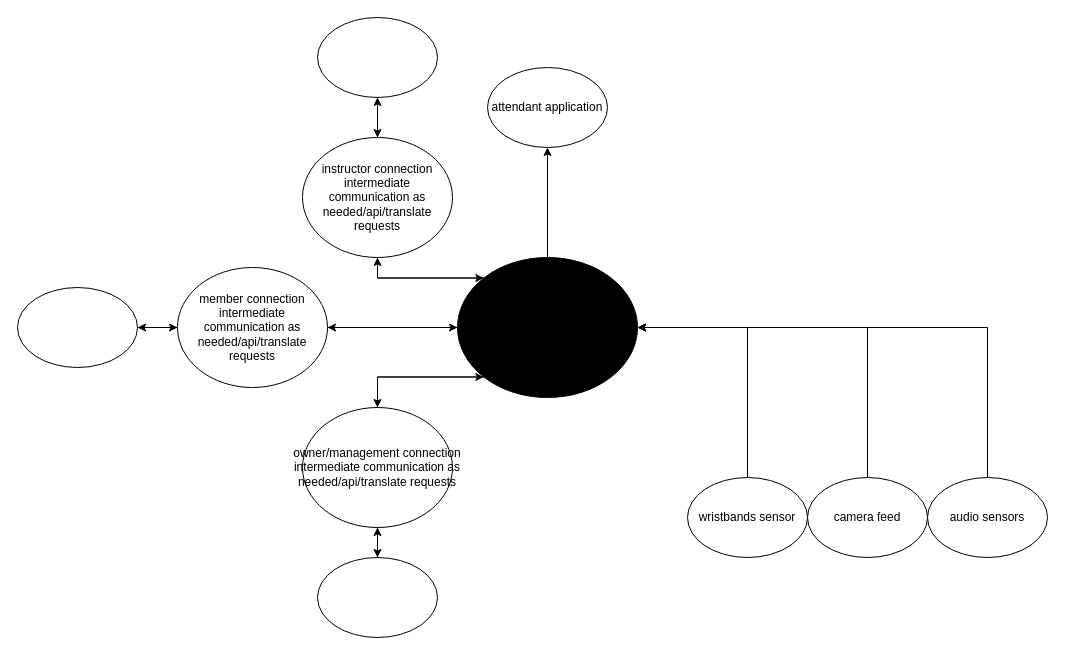
This 1065x655 diagram has some shape labels left out. Each missing label, with the centre of its shape:
"GSM software/GSMS.Backend logic" belongs at pixel 547 327.
"Instructor application" belongs at pixel 377 57.
"member application" belongs at pixel 77 327.
"owner/management application" belongs at pixel 377 597.
